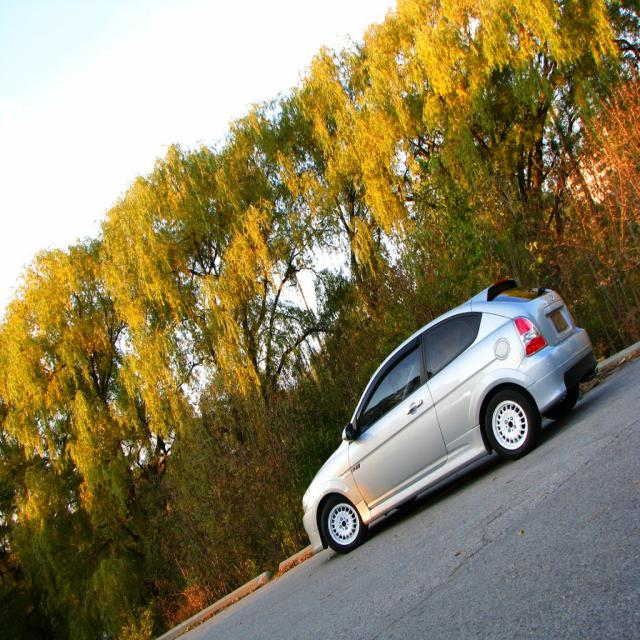car: (294, 272, 599, 554)
